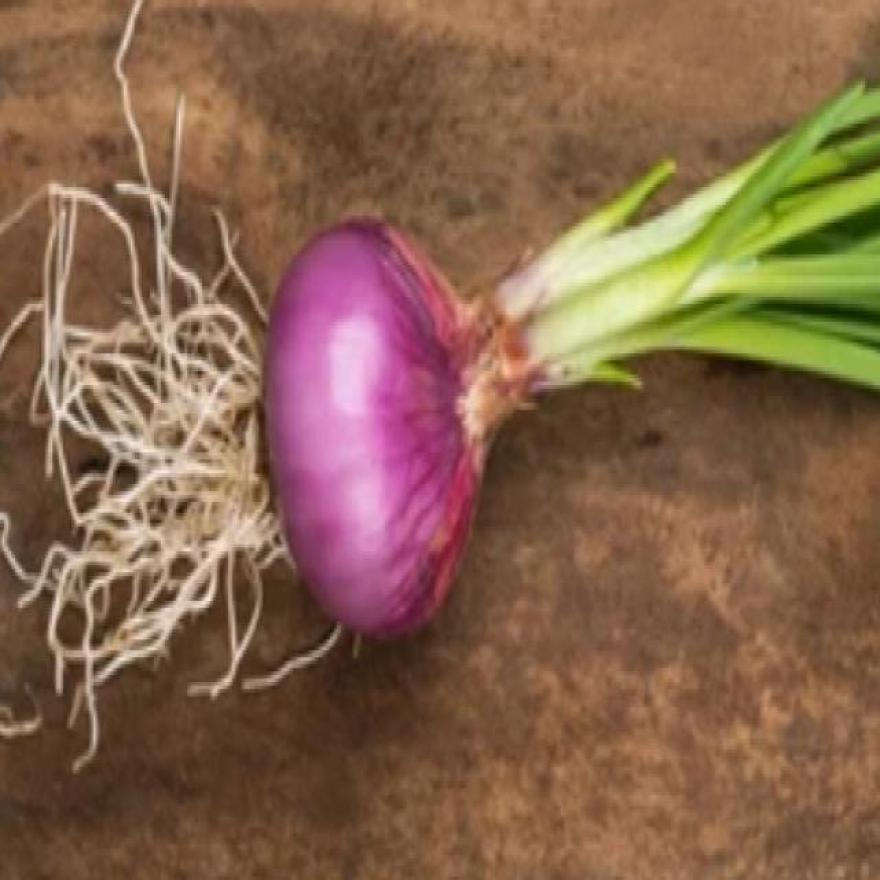Sprouted: (438, 65, 880, 442)
